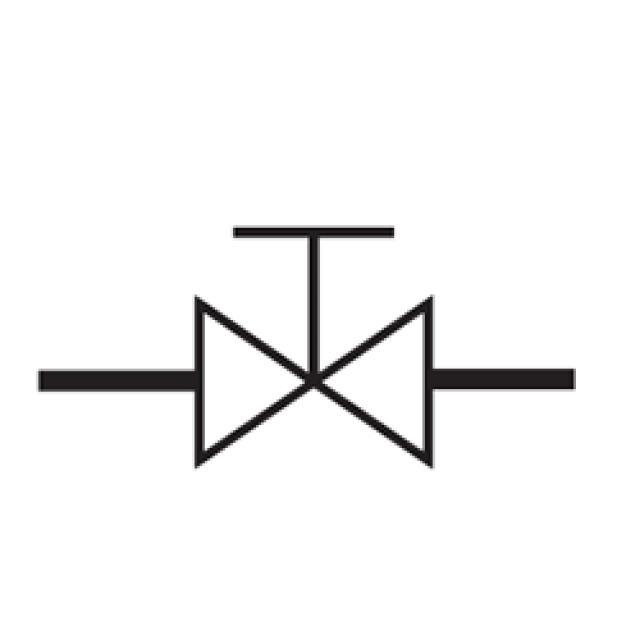Hand Operated Gate Valve: (148, 174, 486, 494)
